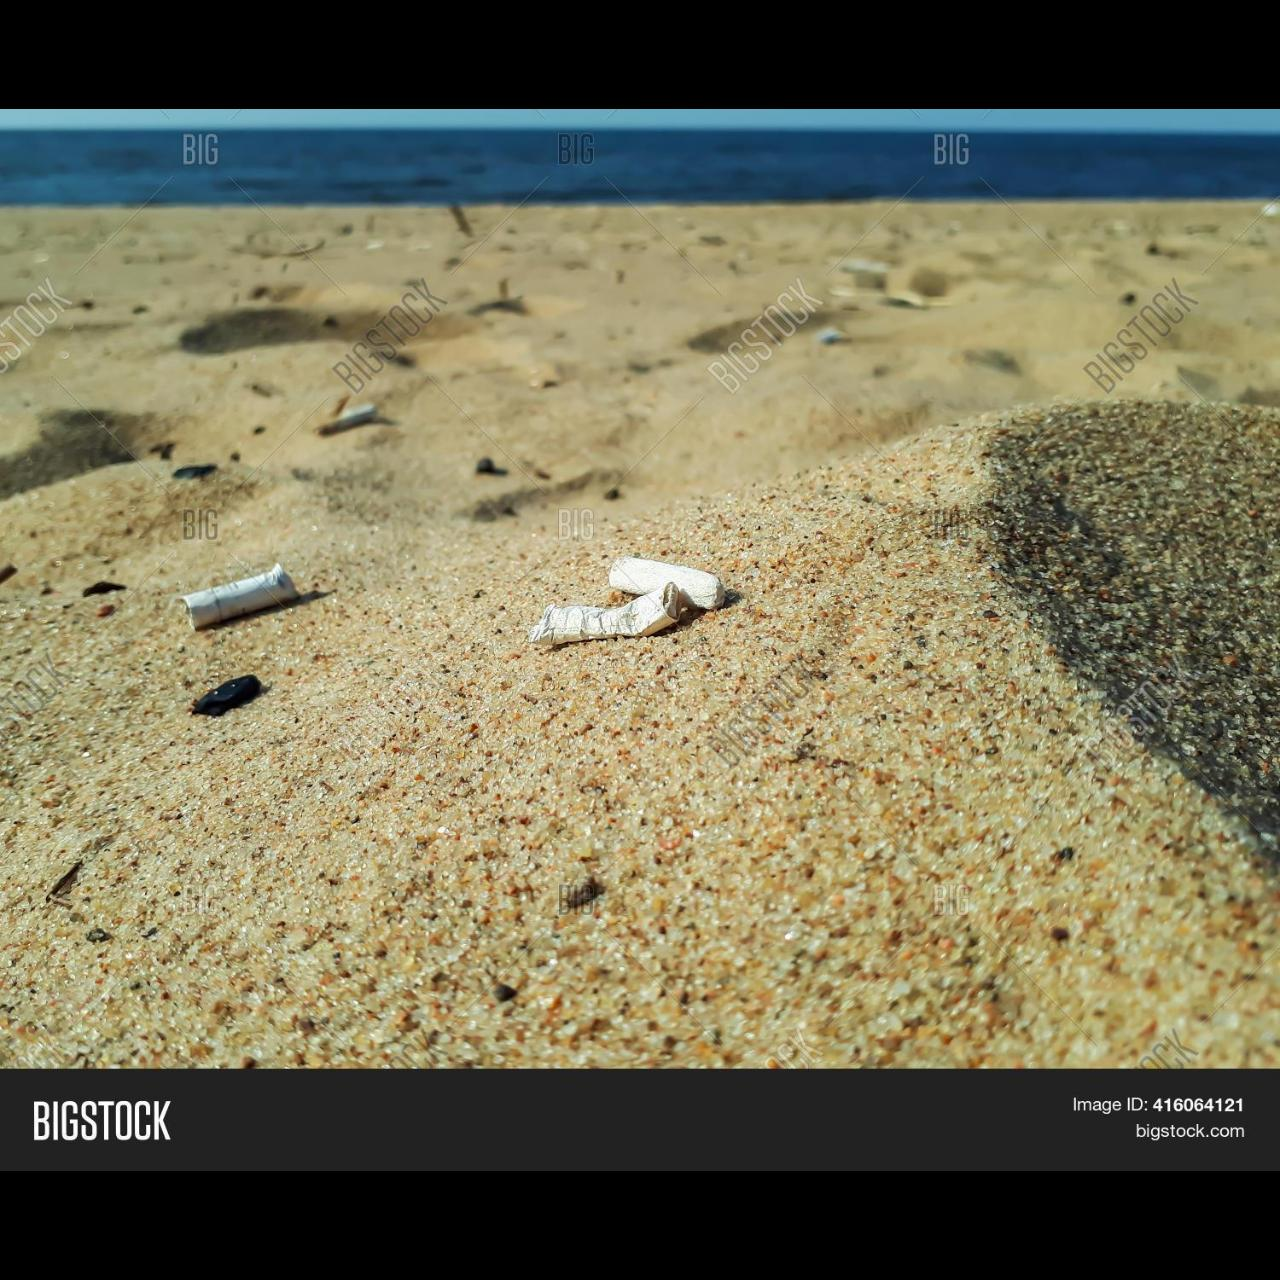cigarettes_butts: (529, 583, 682, 647), (183, 564, 300, 632), (608, 557, 727, 610)
